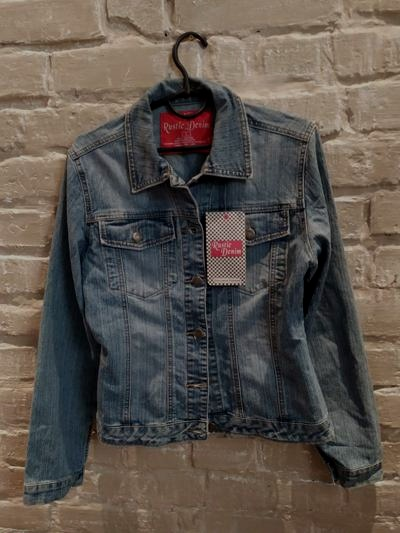Blazer: (34, 78, 390, 499)
